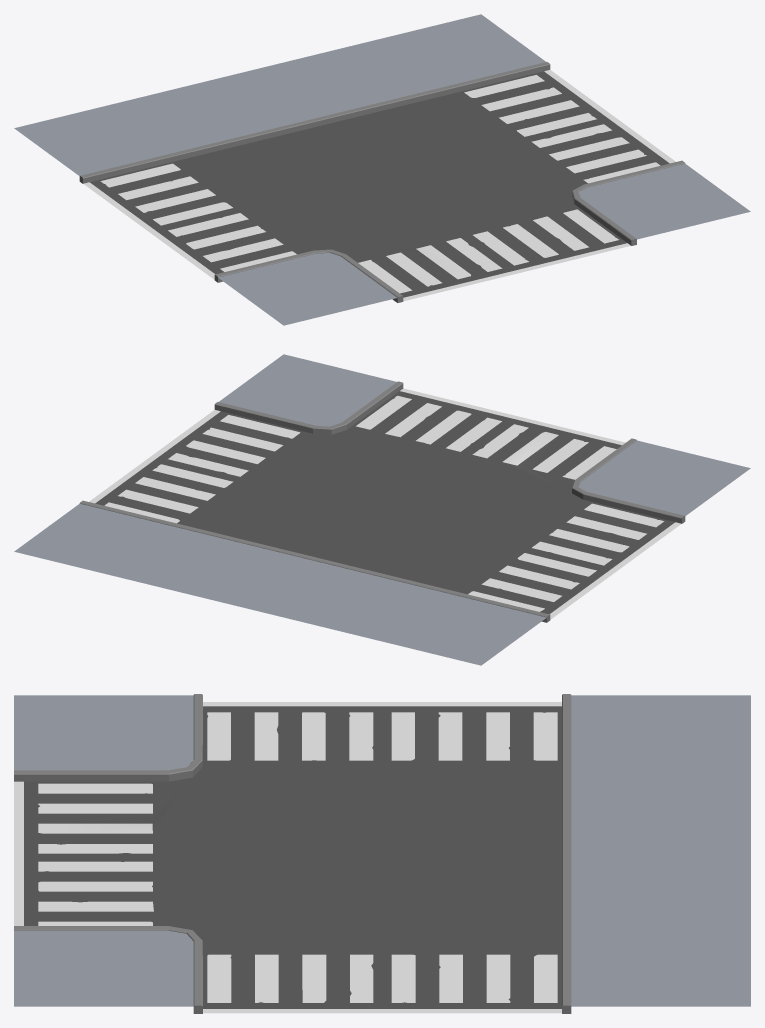
The model's file is Road_04.fbx.
3 renders of one model, top to bottom at view 1: azimuth 30°, elevation 25°; view 2: azimuth 150°, elevation 25°; view 3: azimuth 270°, elevation 25°, orthographic. The views are drawn at different scales.
Visible parts, largest first — view 1: Road_04; view 2: Road_04; view 3: Road_04.
Part boxes in pixels (x1,y1,x2,y2): Road_04: [14, 14, 750, 325]; Road_04: [14, 354, 750, 665]; Road_04: [14, 694, 750, 1013].
Size of the model in its own units: 1200 by 15.01 by 1200.
